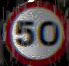Speed limit: (5, 1, 68, 63)
